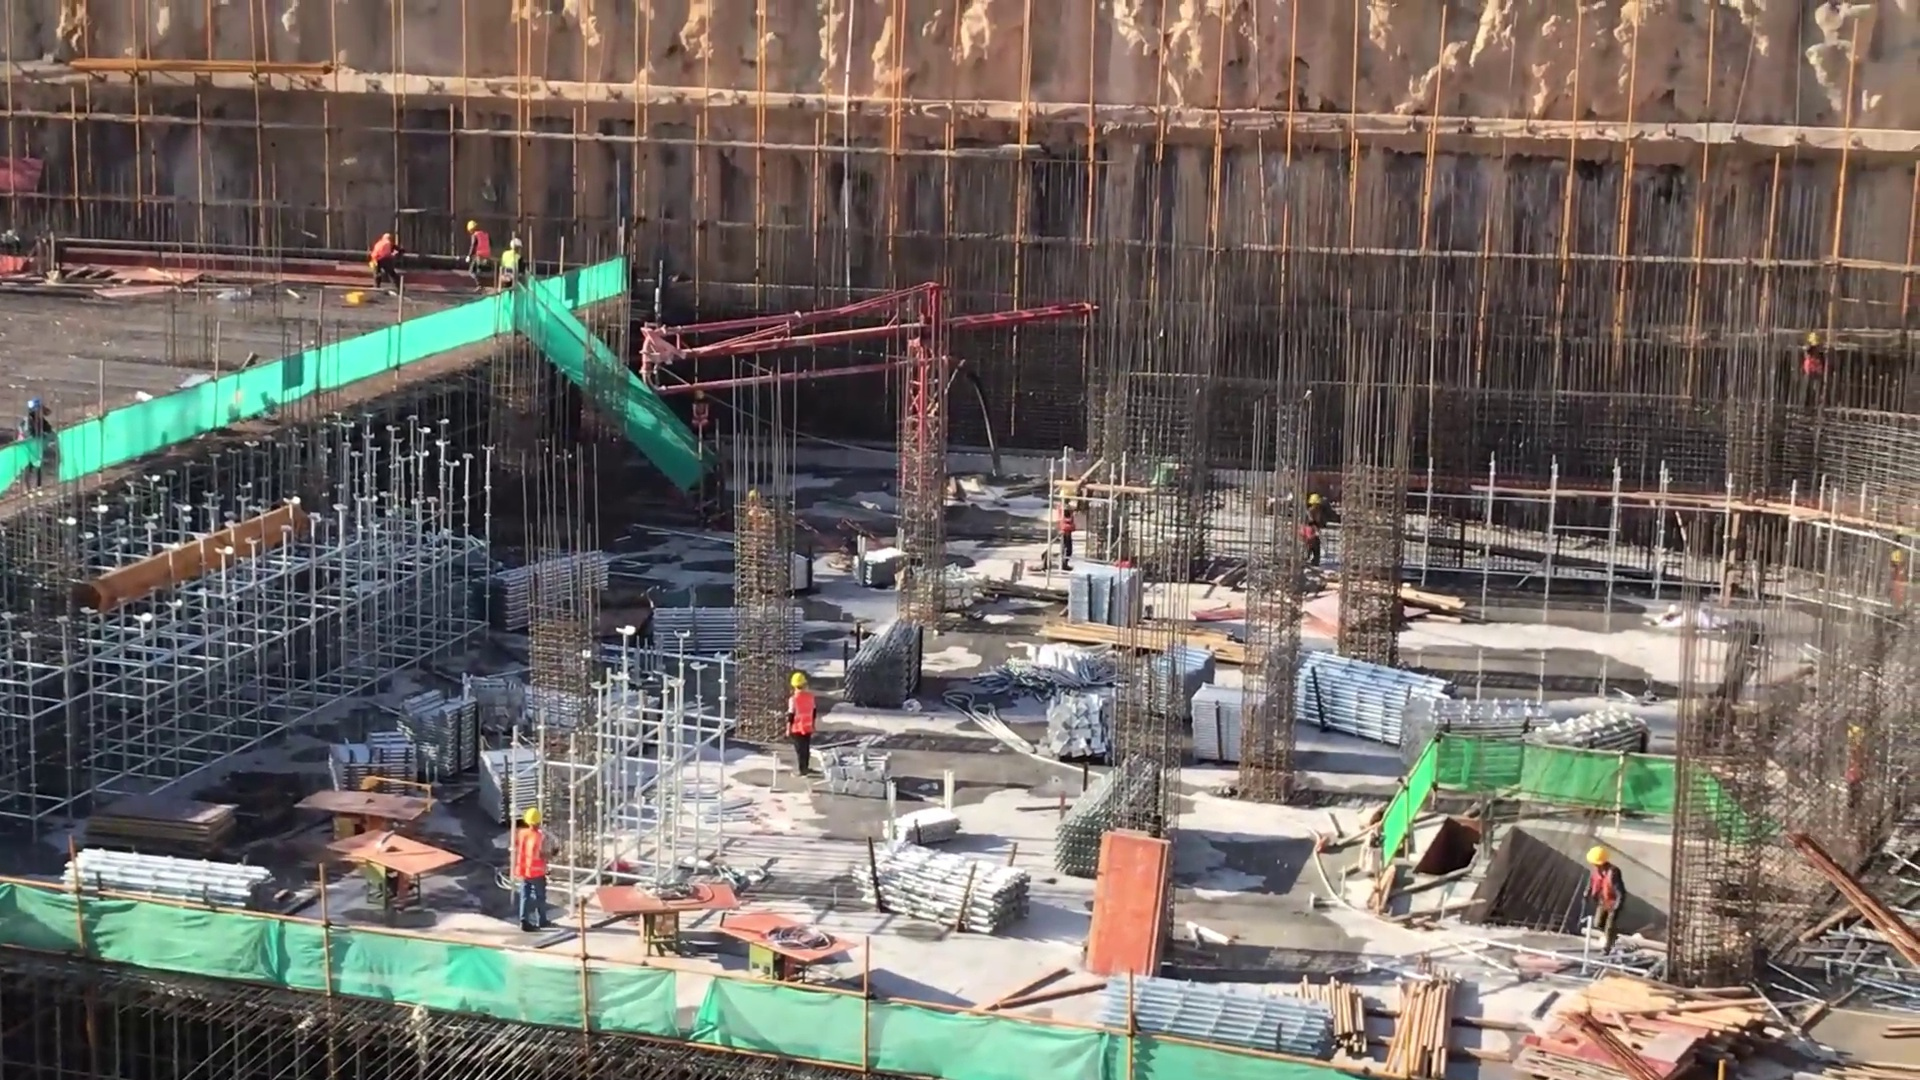cutter: (326, 817, 465, 914), (594, 873, 740, 950), (719, 909, 851, 987), (307, 780, 442, 844)
helmet: (1586, 845, 1612, 870), (522, 807, 547, 829), (789, 673, 812, 691), (690, 386, 708, 402), (1807, 331, 1823, 346), (379, 232, 396, 245), (464, 219, 479, 233), (508, 236, 524, 249), (1308, 493, 1323, 506)
person: (507, 807, 561, 936), (1582, 841, 1629, 959), (779, 669, 822, 778), (362, 228, 407, 297), (459, 214, 494, 297), (1298, 489, 1333, 571), (1804, 329, 1830, 410), (685, 383, 714, 442), (498, 232, 526, 292)
scaffold: (1098, 970, 1334, 1057), (855, 831, 1026, 941), (1287, 647, 1458, 756), (55, 844, 294, 909), (1396, 687, 1546, 781), (468, 547, 616, 638), (1524, 699, 1651, 775), (834, 614, 924, 715), (1055, 773, 1127, 883), (397, 683, 477, 781), (639, 599, 750, 665), (1060, 559, 1145, 638), (1190, 685, 1258, 767), (473, 747, 539, 822), (369, 728, 416, 789)
vest: (514, 826, 550, 883), (1587, 867, 1618, 915), (787, 691, 817, 739), (1801, 353, 1828, 384), (1301, 512, 1326, 543), (366, 243, 400, 265), (473, 228, 493, 264), (687, 401, 711, 428), (499, 247, 521, 275)
